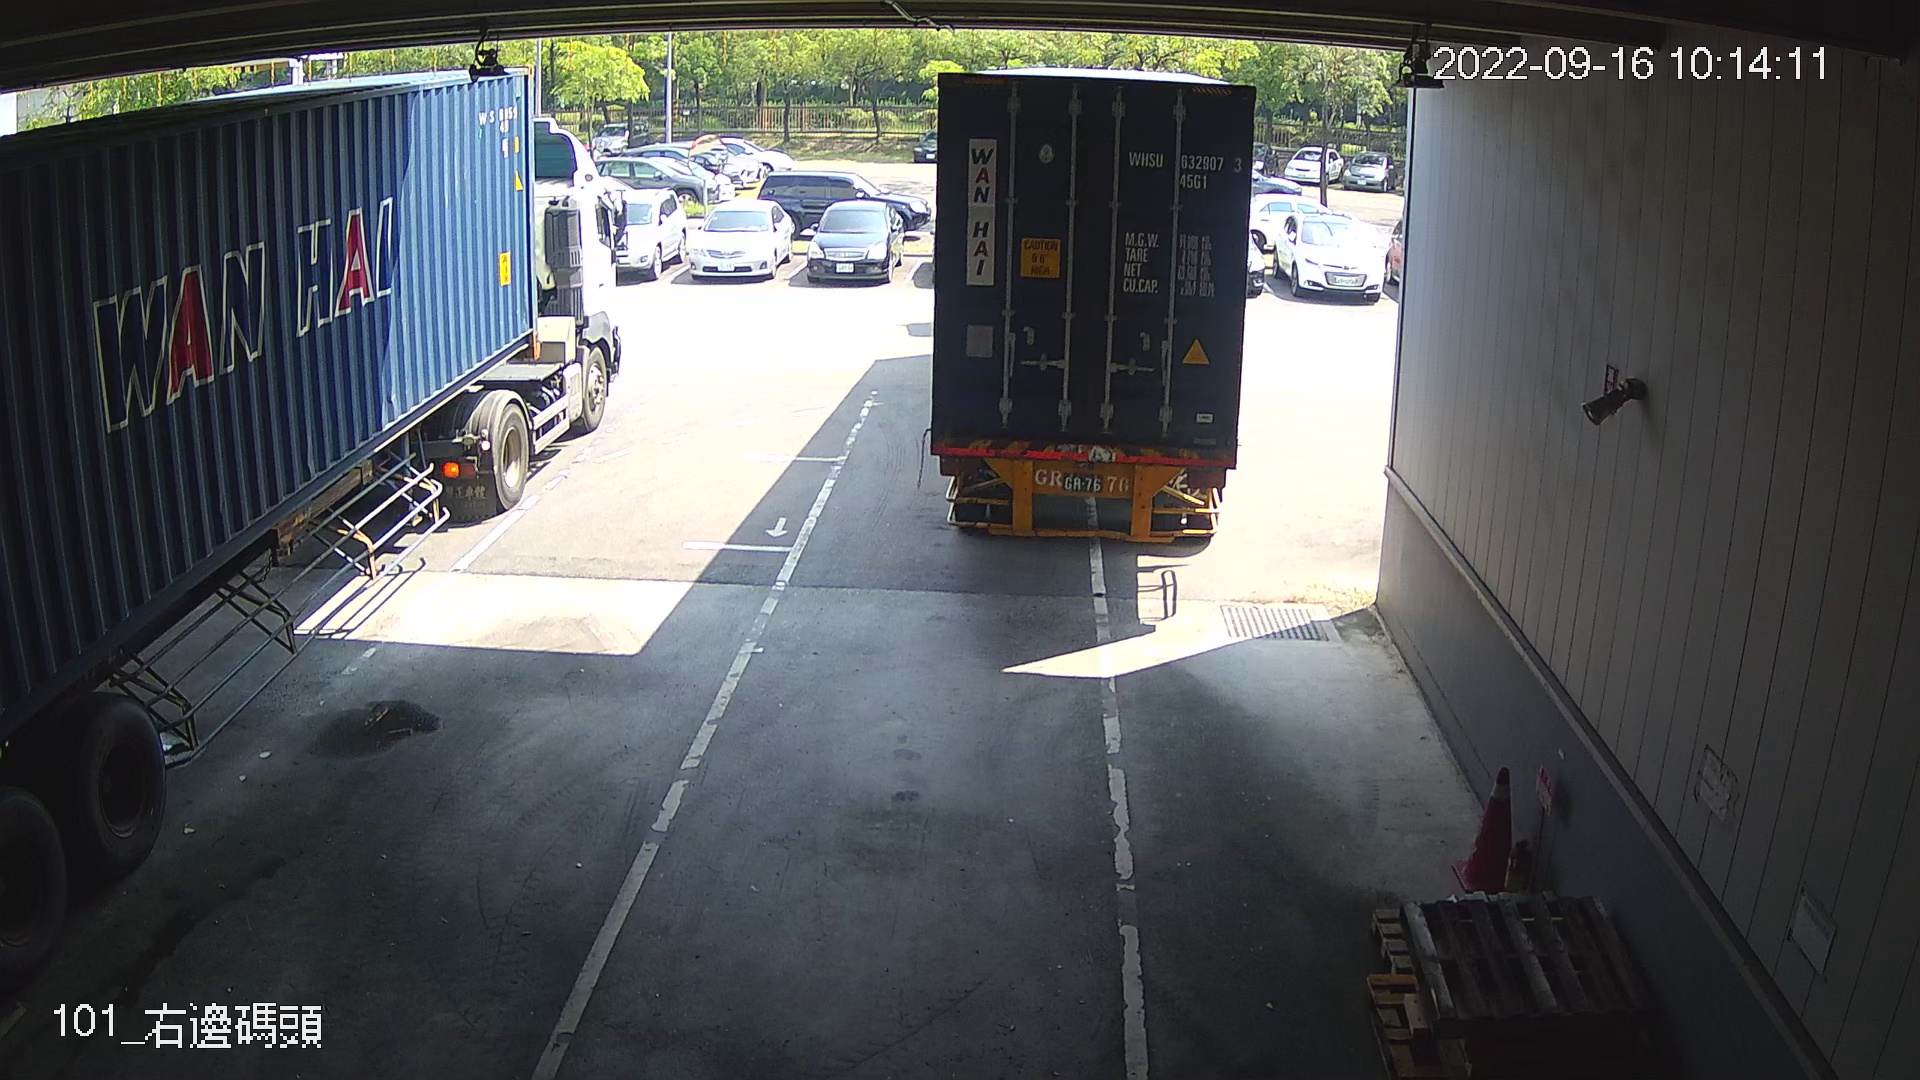container: (1125, 142, 1247, 195)
